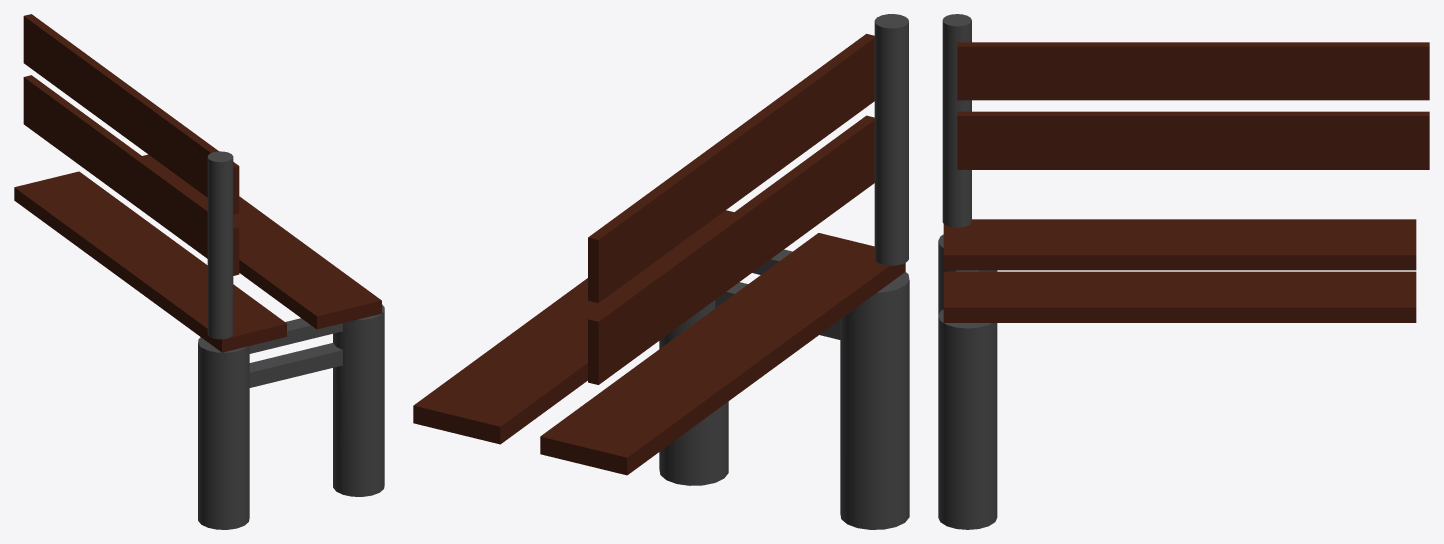
File: bench.glb
The picture shows the model from 3 angles, left to right: view 1: azimuth 30°, elevation 25°; view 2: azimuth 150°, elevation 25°; view 3: azimuth 270°, elevation 25°; orthographic projection. The views are drawn at different scales.
Parts seen in each view (by area): view 1: Bench; view 2: Bench; view 3: Bench.
Part boxes in pixels (x1=…): Bench: x1=14, y1=14, x2=384, y2=529; Bench: x1=413, y1=14, x2=909, y2=529; Bench: x1=938, y1=14, x2=1429, y2=529.
Bounding box in the file's own units: 0.7986 × 1.56 × 1.66.
